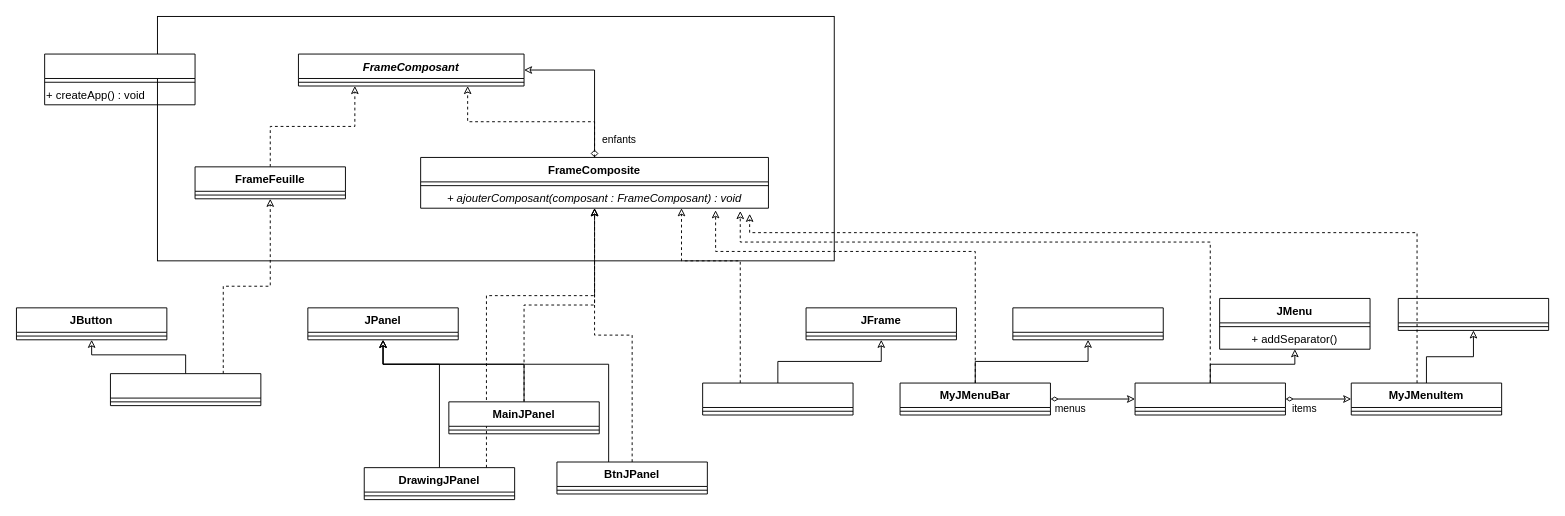
This 1565x516 diagram has some shape labels left out. Here are the shapes that lost their labels. From the top down, the box of each, then its label:
(44, 53, 195, 105): Application
(1012, 307, 1163, 340): JMenuBar
(1397, 298, 1549, 330): JMenuItem
(110, 373, 261, 406): Button
(702, 382, 853, 415): MainJFrame
(1134, 382, 1285, 415): MyJMenu
